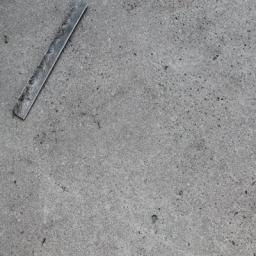FOD: (1, 1, 91, 124)
